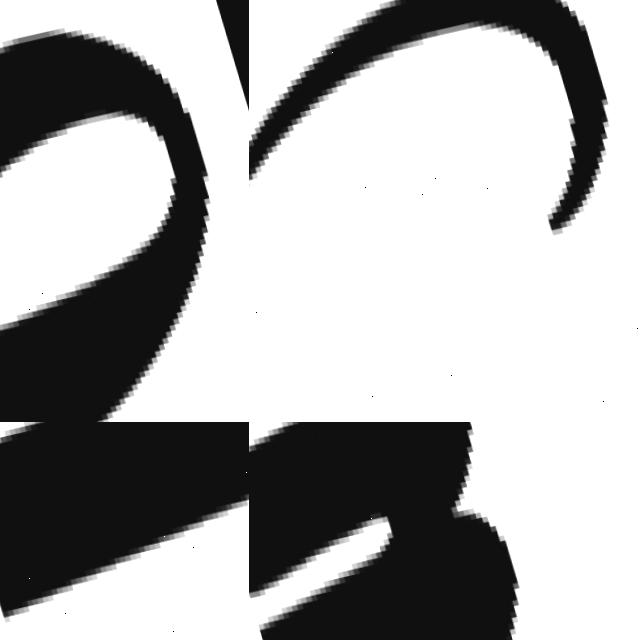2: (249, 0, 640, 376)
E: (0, 25, 204, 422)
M: (249, 422, 611, 640)
R: (0, 422, 249, 636)
